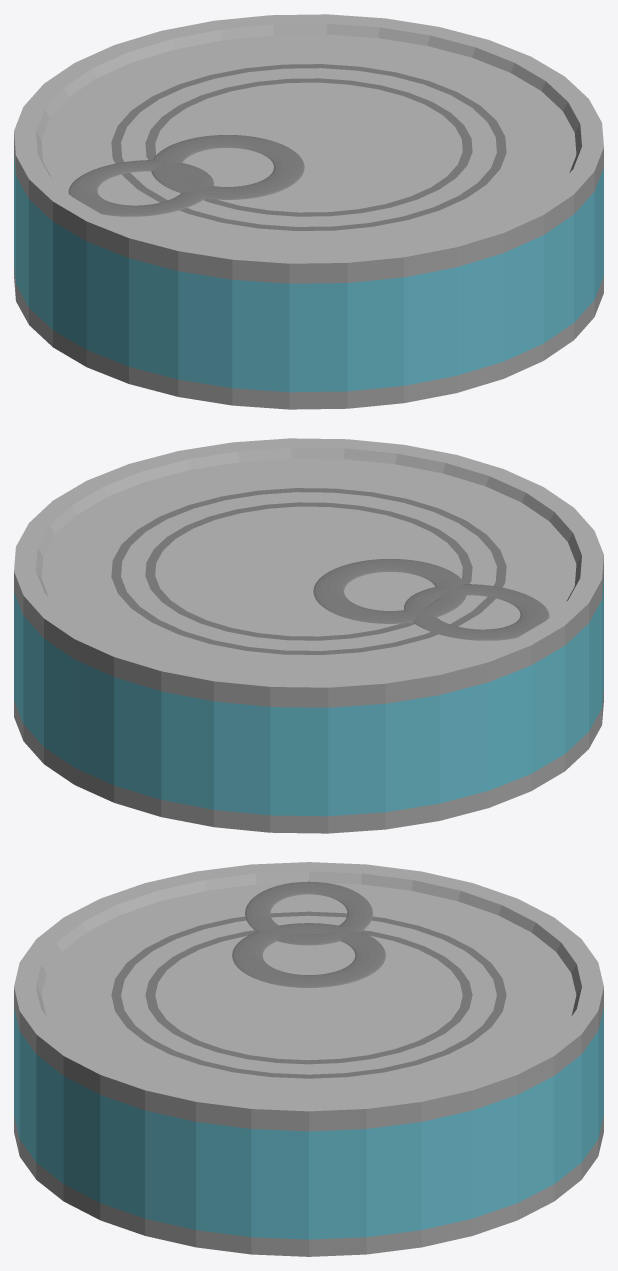
File: SmallCan(Full)V1.fbx
The picture shows the model from 3 angles, top to bottom: view 1: azimuth 30°, elevation 25°; view 2: azimuth 150°, elevation 25°; view 3: azimuth 270°, elevation 25°; orthographic projection.
Parts seen in each view (by area): view 1: Cylinder; view 2: Cylinder; view 3: Cylinder.
Boxes of the visible parts, box(x1,y1,x2,y2) form: Cylinder: box(14, 14, 603, 409); Cylinder: box(14, 438, 603, 833); Cylinder: box(14, 862, 603, 1256).
Size of the model in its own units: 200 by 200 by 54.44.
